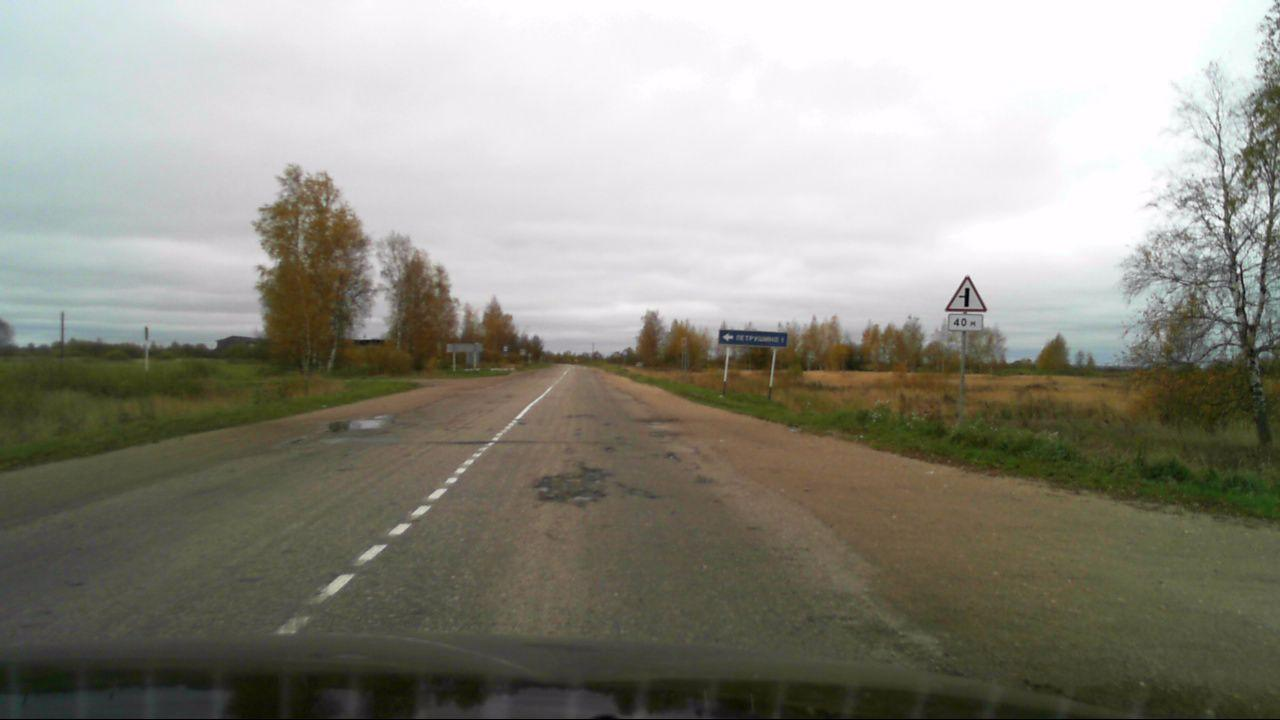2_3_3: (946, 273, 987, 314)
6_10_1: (716, 327, 788, 348)
8_1_1: (949, 313, 983, 330)
